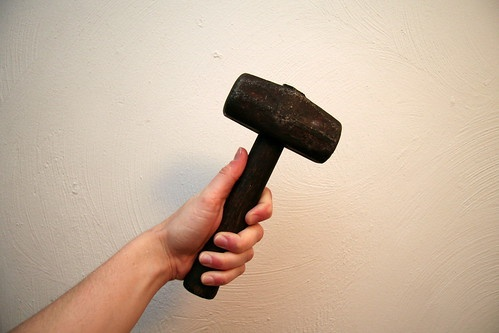hammer: (184, 71, 344, 301)
